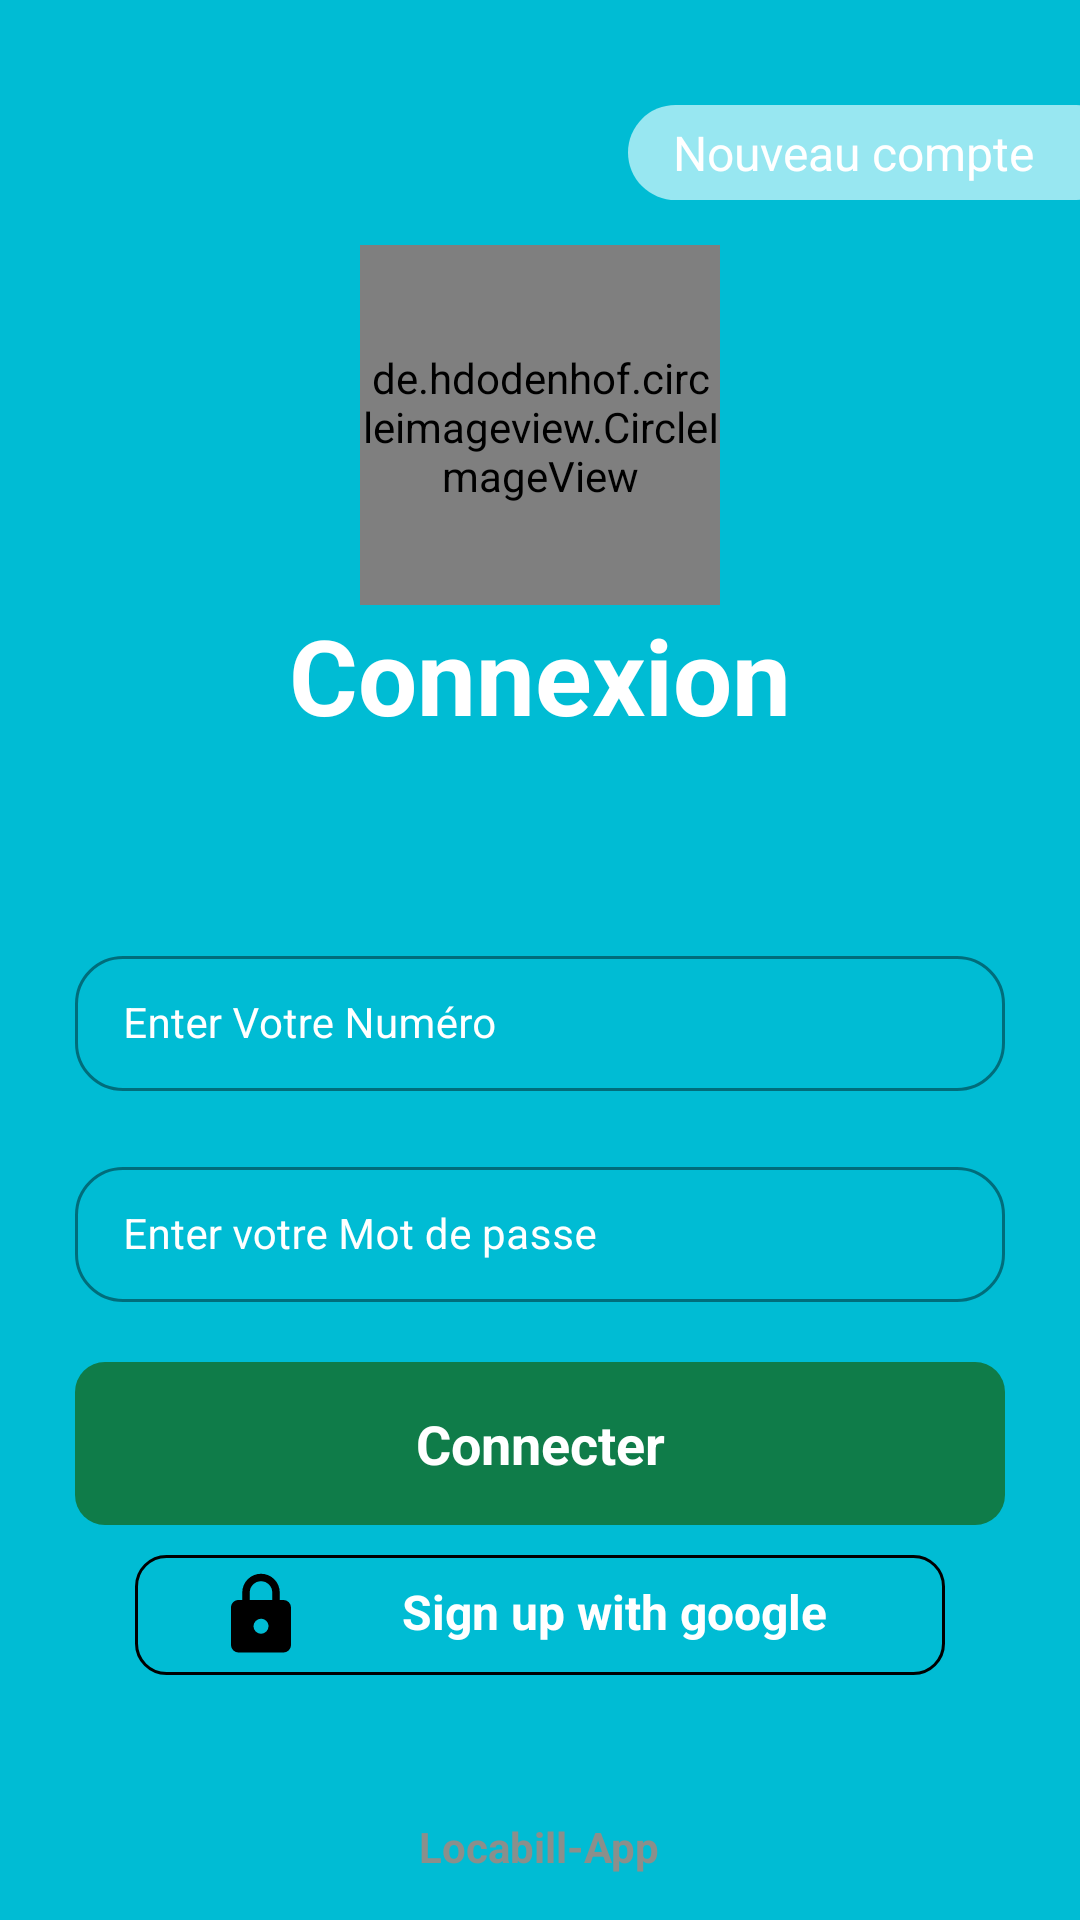

Locate icon controls on the screen. Image size 1080w x 1920h, boxes as (x1, y1, x2, y2).
lock: (231, 1573, 291, 1653)
